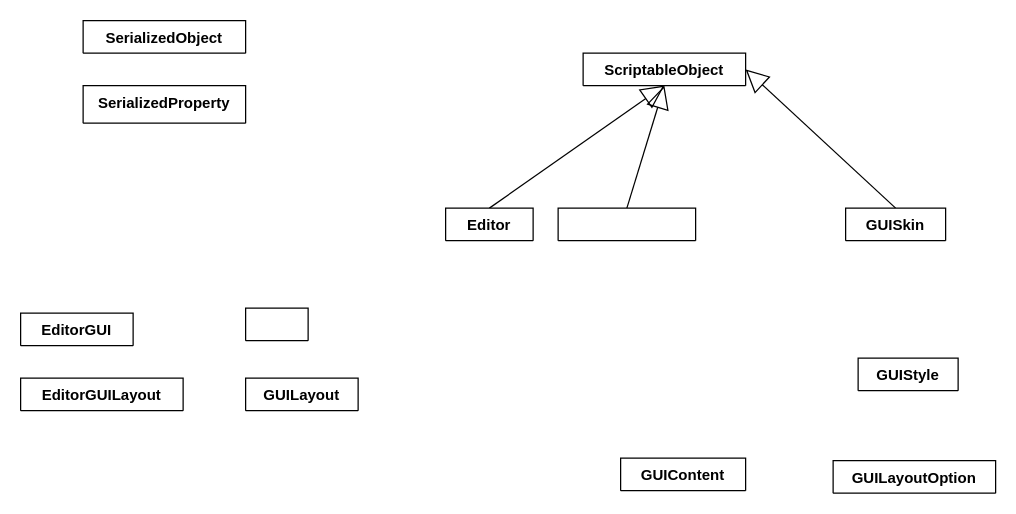
Image size: 1016x514. Some labels were removed from this diagram. The centre of each missing label's shape, as x and y in pixels:
"EditorWindow" belongs at point 626,224.
"GUI" belongs at point 276,324.
